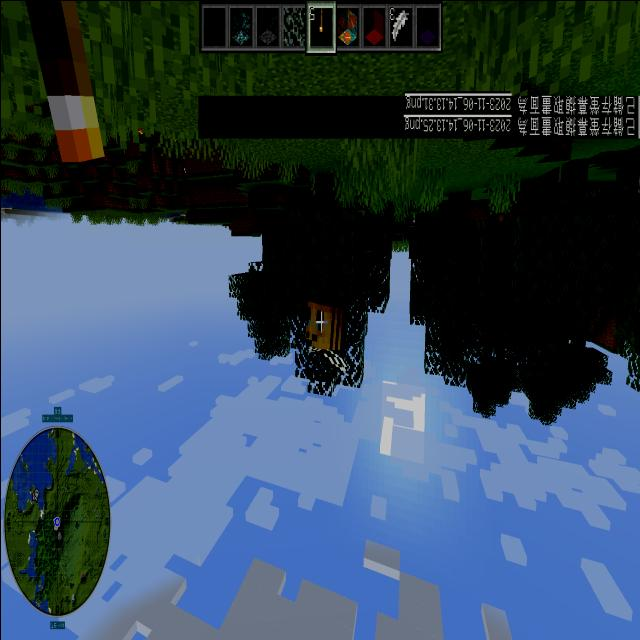bee: (296, 286, 354, 384)
